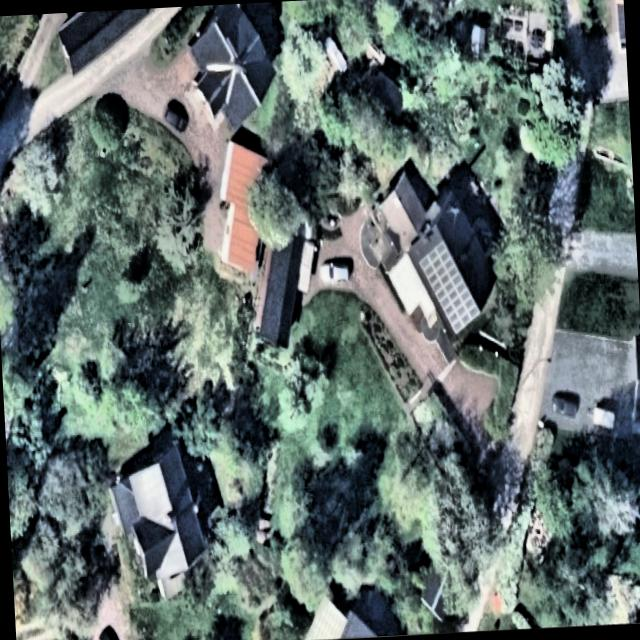roof_pv: (418, 240, 482, 335)
